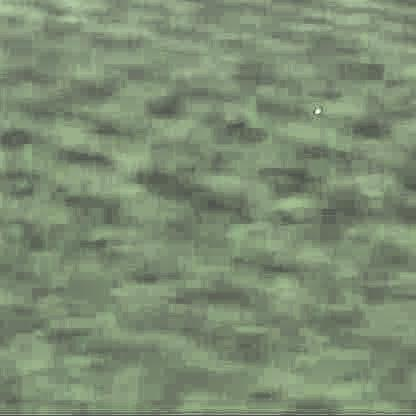golfball: (311, 105, 316, 110)
